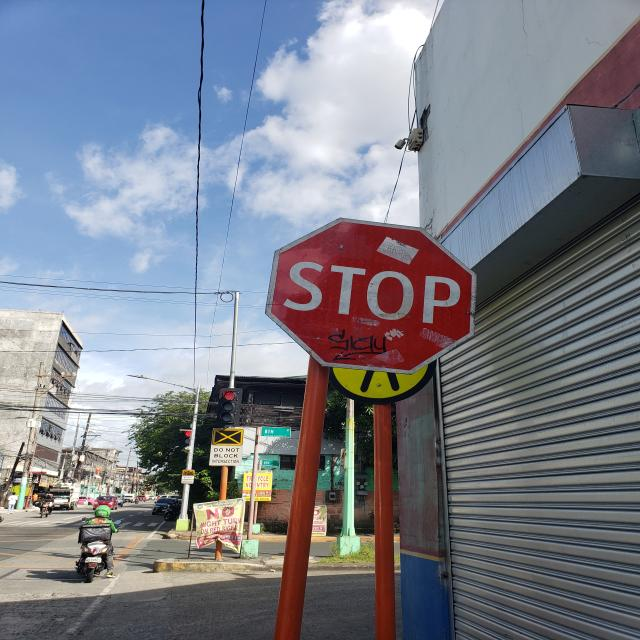stop-sign: (265, 217, 478, 376)
